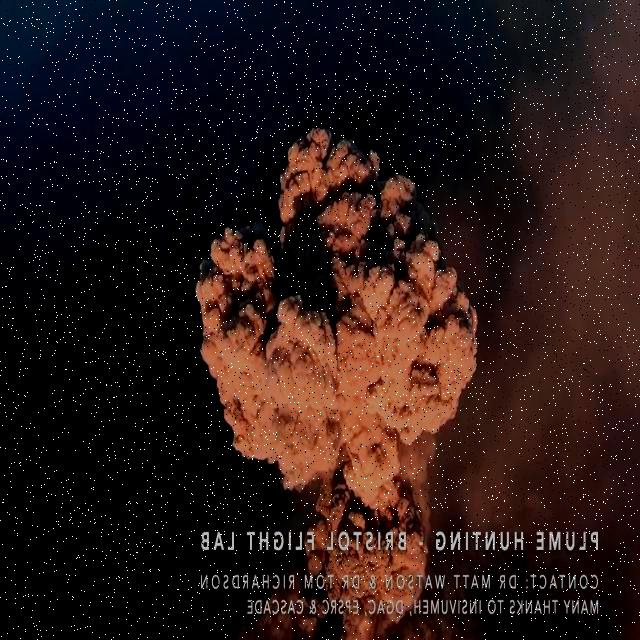Plume: (185, 113, 477, 640)
